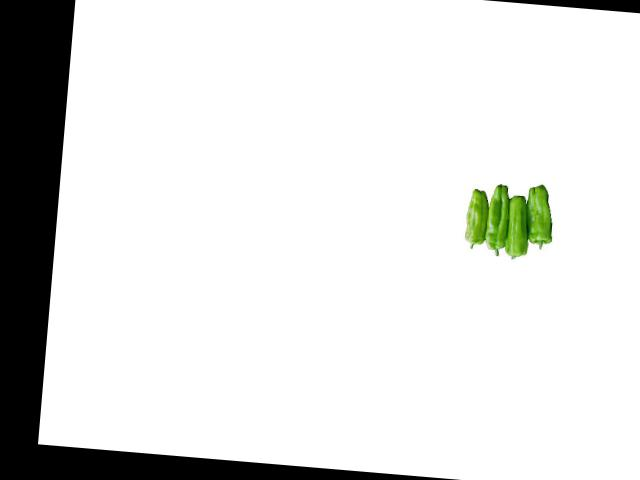bell_pepper: (523, 178, 556, 253)
